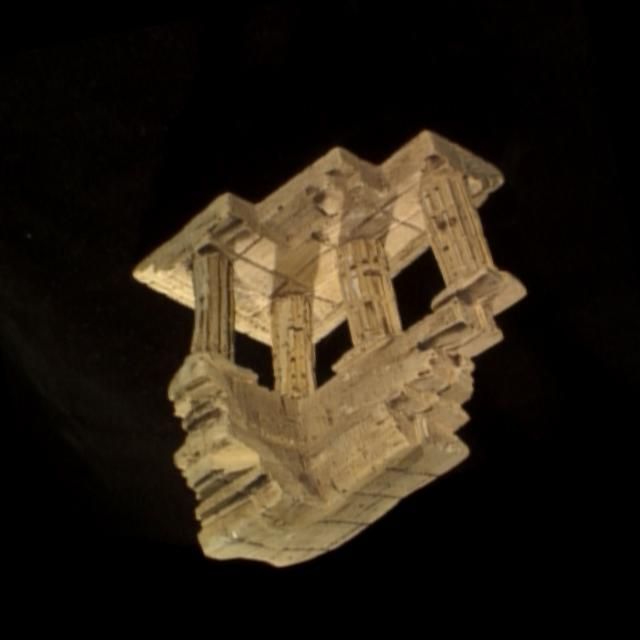Instance-Segmentation: (133, 132, 524, 566)
